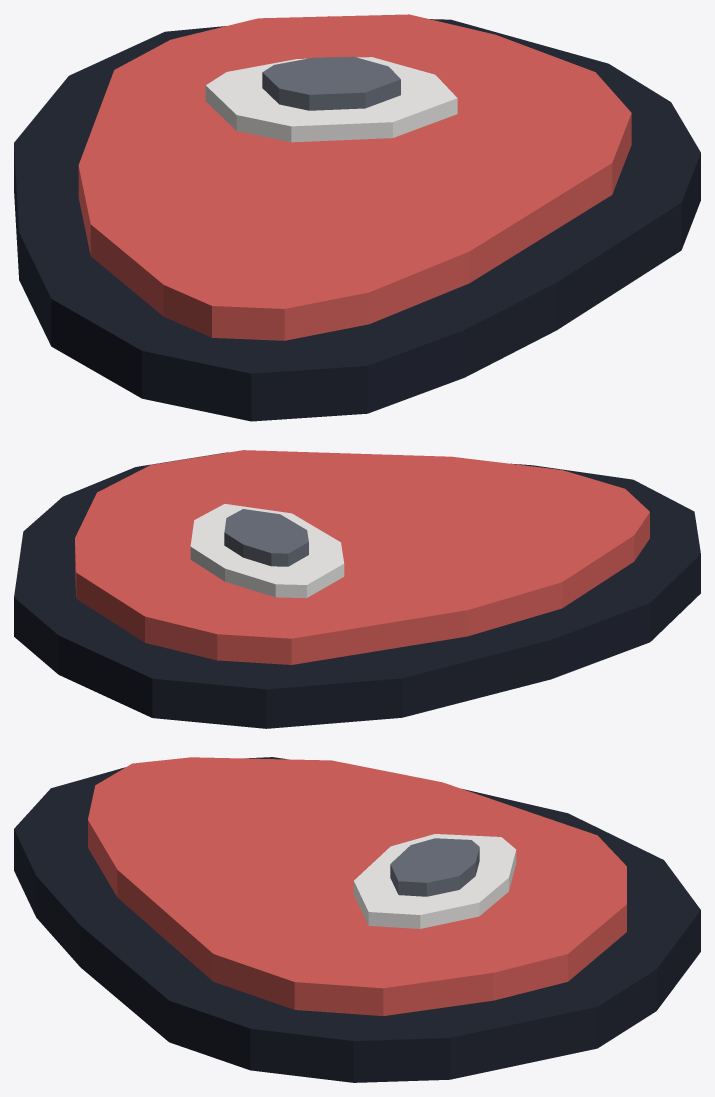
File: raw_meat.fbx
3 views of the same model, one above another, from view 1: azimuth 30°, elevation 25°; view 2: azimuth 150°, elevation 25°; view 3: azimuth 270°, elevation 25° (orthographic). The views are drawn at different scales.
Parts seen in each view (by area): view 1: raw_meat; view 2: raw_meat; view 3: raw_meat.
Boxes of the visible parts, x1,y1,x2,y2 form: raw_meat: [14, 14, 700, 421]; raw_meat: [14, 450, 700, 728]; raw_meat: [14, 757, 700, 1082].
Bounding box in the file's own units: 0.875 × 0.14 × 0.8942.
1 material, 1 textured.
